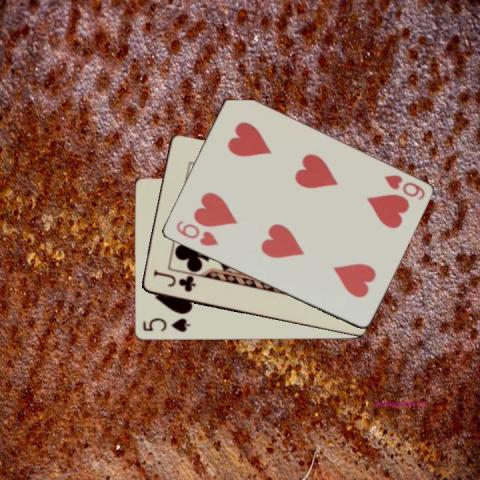5s: (140, 315, 192, 334)
6h: (173, 217, 219, 248), (381, 172, 426, 202)
Jc: (150, 269, 197, 293)
